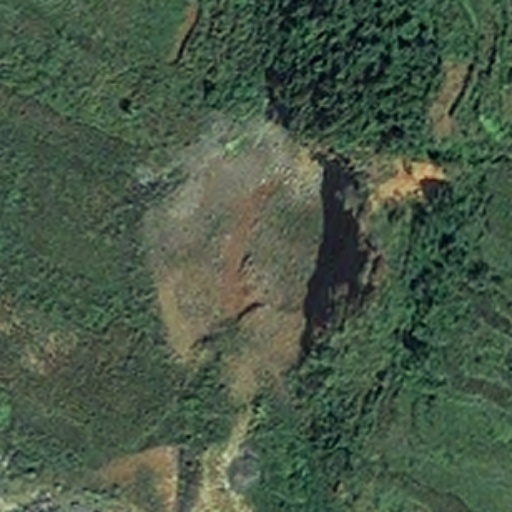landslide: (370, 149, 448, 210)
